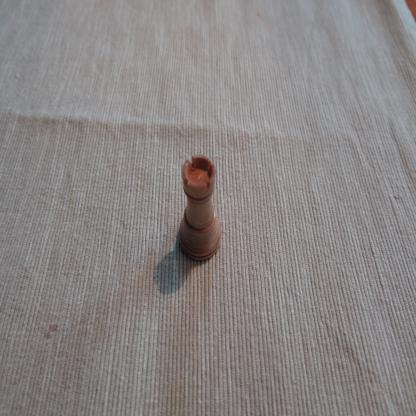white-rook: (178, 153, 222, 263)
